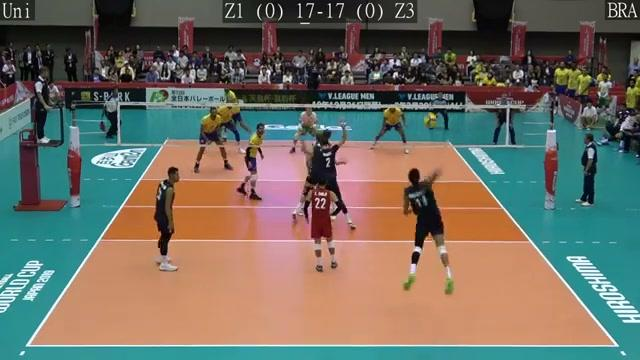ball: (422, 112, 439, 130)
